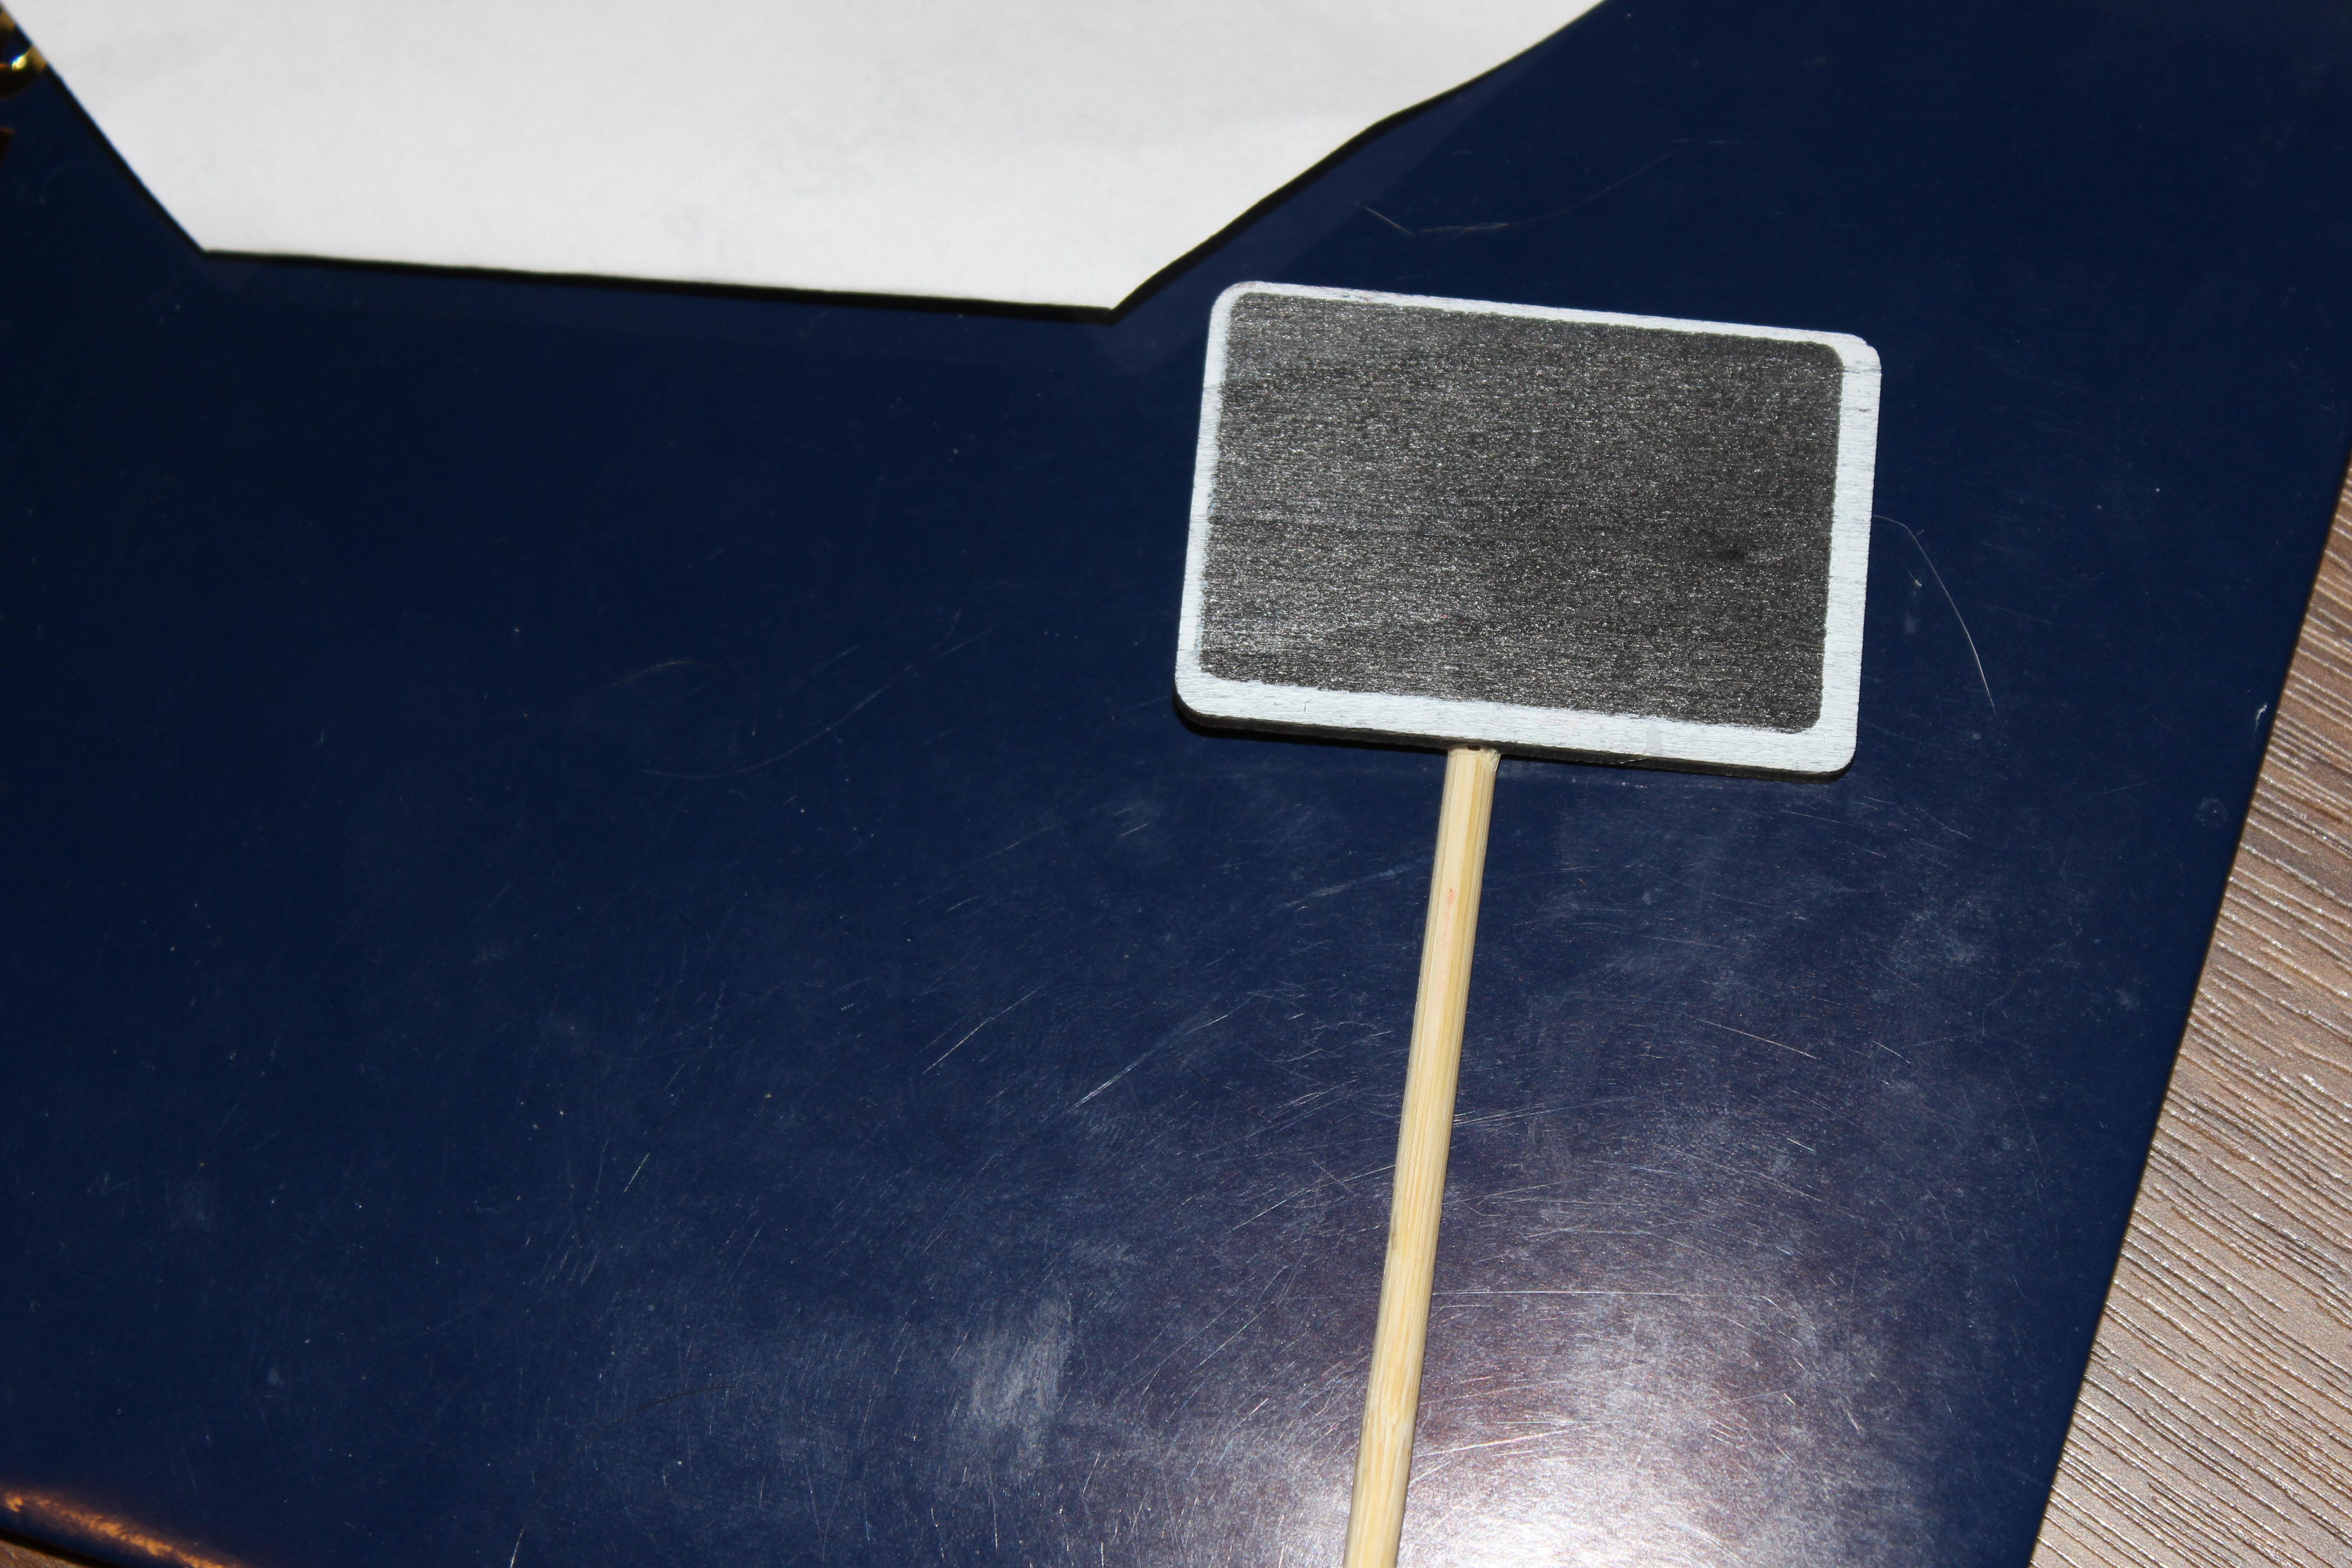sign: (1146, 236, 1937, 1568)
